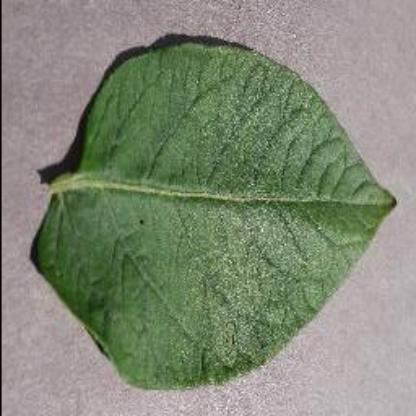Healthy-plant: (30, 38, 397, 386)
